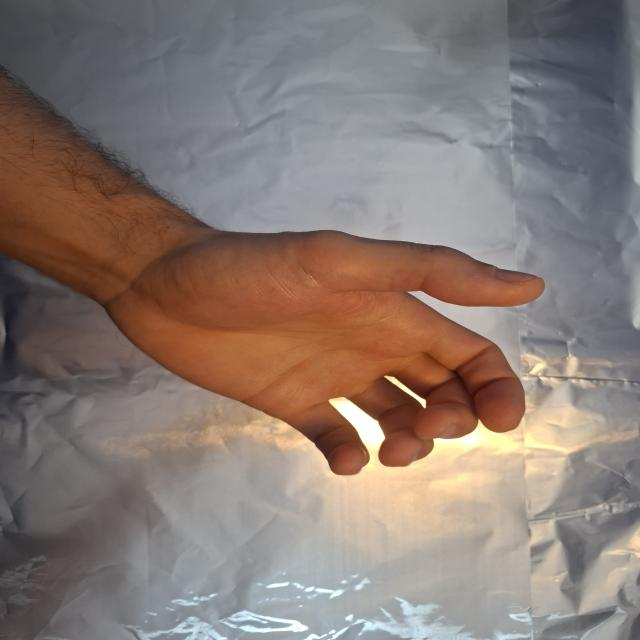glove_off: (102, 223, 548, 476)
